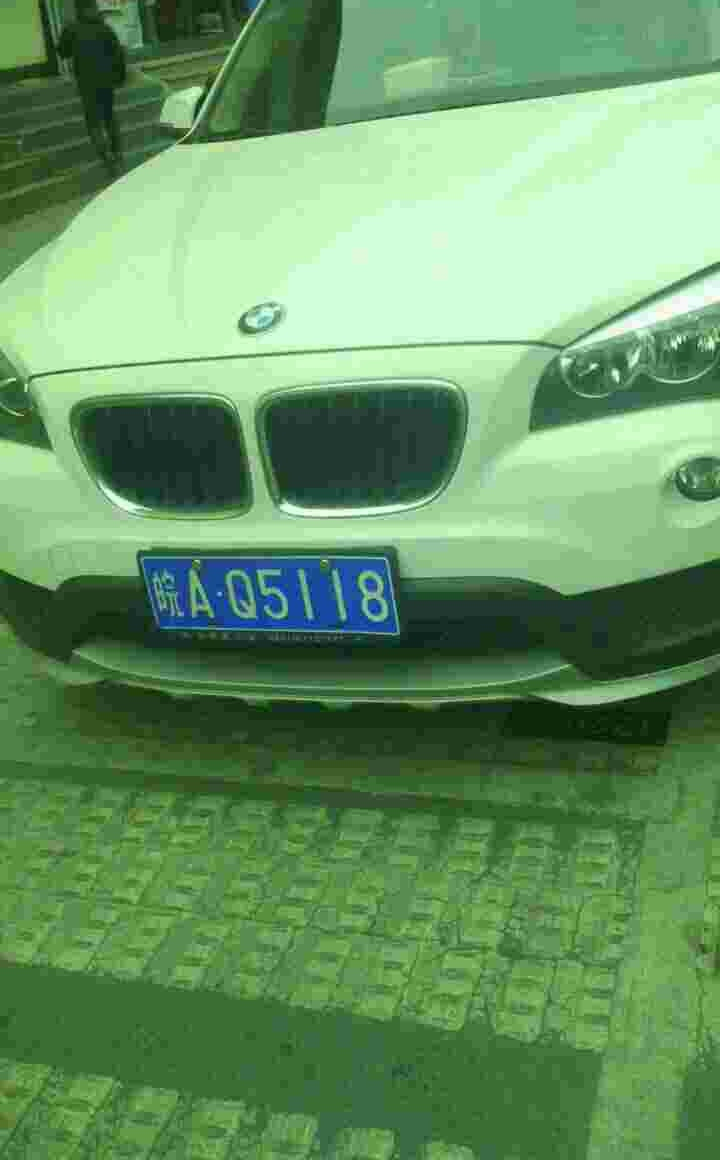license_plate: (150, 554, 390, 644)
